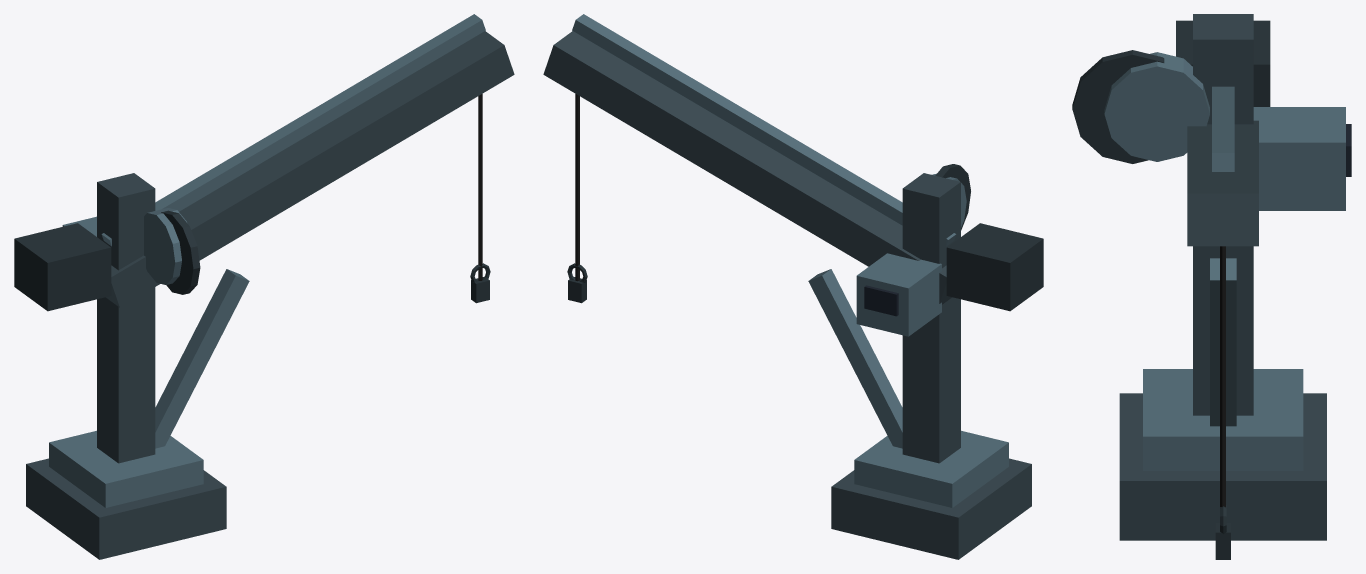
The model's file is harborCrane.glb.
3 renders of one model, left to right at view 1: azimuth 30°, elevation 25°; view 2: azimuth 150°, elevation 25°; view 3: azimuth 270°, elevation 25°, orthographic. The views are drawn at different scales.
Visible parts, largest first — view 1: crane-boom, n5, n1, n11, n3, n23, n7, crane-winch, n15, crane-rope; view 2: crane-boom, n5, n1, n11, n3, n23, n25, n7, crane-rope, n27; view 3: n1, n3, n5, n25, crane-winch, crane-boom, n15, n7, n23, n11, crane-rope, n19.
Part boxes in pixels (bbox=[...]): crane-boom: bbox=[106, 31, 514, 307]; n5: bbox=[97, 173, 155, 463]; n1: bbox=[26, 458, 226, 559]; n11: bbox=[101, 14, 485, 246]; n3: bbox=[49, 430, 203, 507]; n23: bbox=[14, 223, 111, 311]; n7: bbox=[155, 269, 249, 448]; crane-winch: bbox=[144, 208, 186, 284]; n15: bbox=[161, 210, 200, 294]; crane-rope: bbox=[478, 94, 482, 280]; crane-boom: bbox=[543, 31, 951, 304]; n5: bbox=[902, 173, 960, 463]; n1: bbox=[831, 458, 1031, 559]; n11: bbox=[572, 14, 956, 246]; n3: bbox=[854, 430, 1008, 507]; n23: bbox=[946, 223, 1043, 311]; n25: bbox=[856, 253, 941, 336]; n7: bbox=[808, 269, 902, 448]; crane-rope: bbox=[575, 94, 579, 281]; n27: bbox=[864, 285, 898, 316]; n1: bbox=[1119, 393, 1326, 540]; n3: bbox=[1143, 369, 1303, 470]; n5: bbox=[1193, 14, 1253, 415]; n25: bbox=[1253, 107, 1345, 210]; crane-winch: bbox=[1104, 52, 1209, 161]; crane-boom: bbox=[1187, 120, 1258, 246]; n15: bbox=[1072, 50, 1164, 163]; n7: bbox=[1210, 258, 1236, 426]; n23: bbox=[1176, 20, 1270, 106]; n11: bbox=[1212, 86, 1234, 171]; crane-rope: bbox=[1220, 246, 1225, 507]; n19: bbox=[1215, 523, 1230, 559].
Size of the model in its own units: 4.08 by 3.43 by 1.48.
